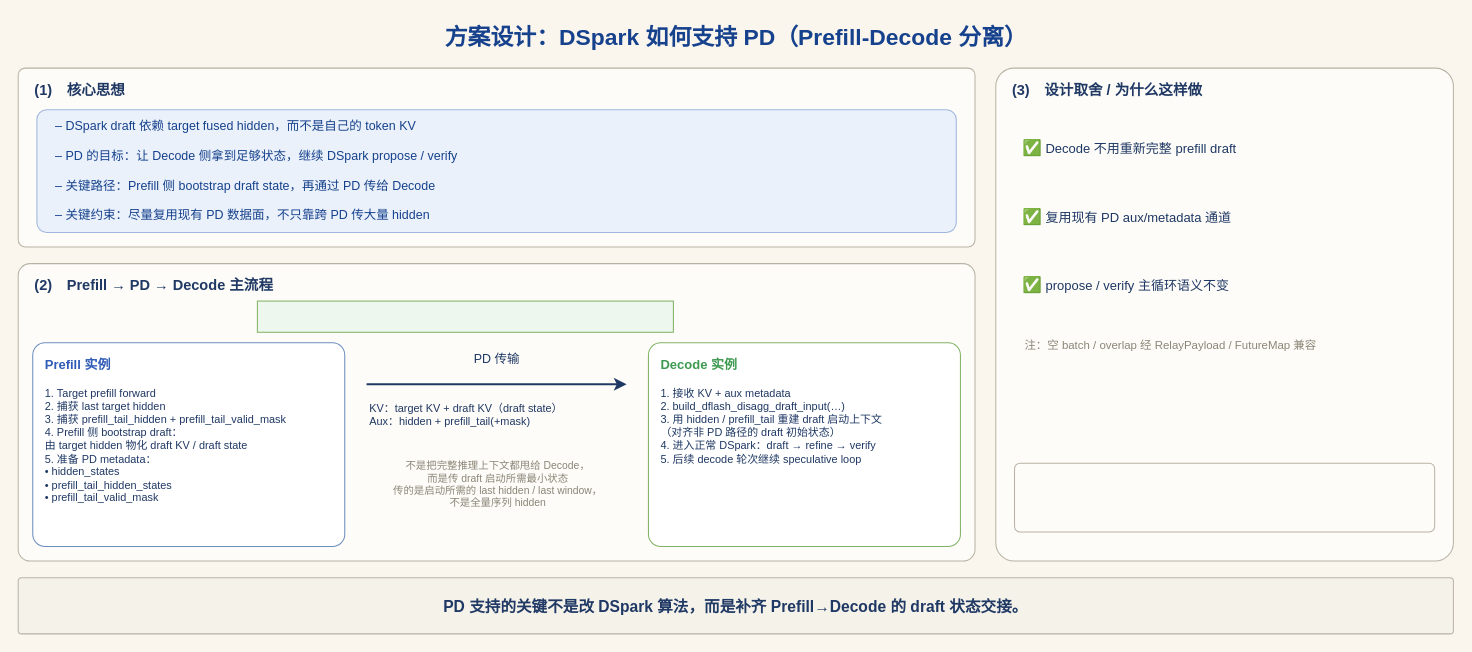
Some shapes in this 1472 by 652 pixel diagram are drawn without their labels. Each missing label, with the box of its shape:
Prefill handoff： draft 状态在跨 PD 前准备好: (256, 300, 673, 332)
本图范围：PD handoff 不含：DP-attention 空 rank 协议 / PP context 累加: (1013, 462, 1435, 532)
